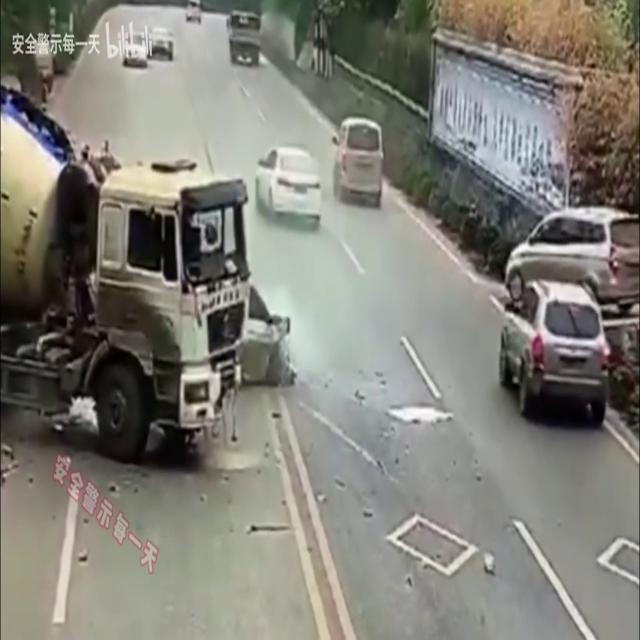accident: (1, 78, 298, 474)
non-accident: (498, 207, 640, 426), (253, 115, 385, 228), (120, 23, 176, 72)
